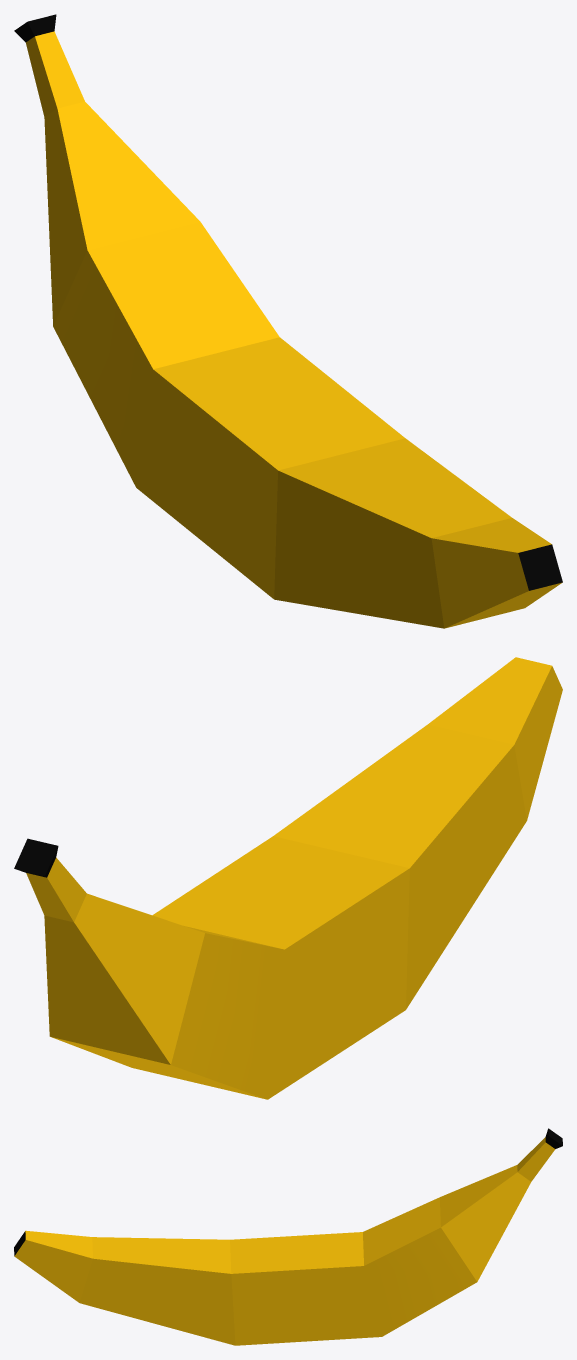
File: Banana.fbx
3 views of the same model, one above another, from view 1: azimuth 30°, elevation 25°; view 2: azimuth 150°, elevation 25°; view 3: azimuth 270°, elevation 25° (orthographic). The views are drawn at different scales.
Parts seen in each view (by area): view 1: Banana; view 2: Banana; view 3: Banana.
Part boxes in pixels (x1,y1,x2,y2): Banana: (14, 14, 562, 628); Banana: (14, 657, 562, 1099); Banana: (14, 1128, 562, 1345).
Bounding box in the file's own units: 67.64 × 175 × 447.
